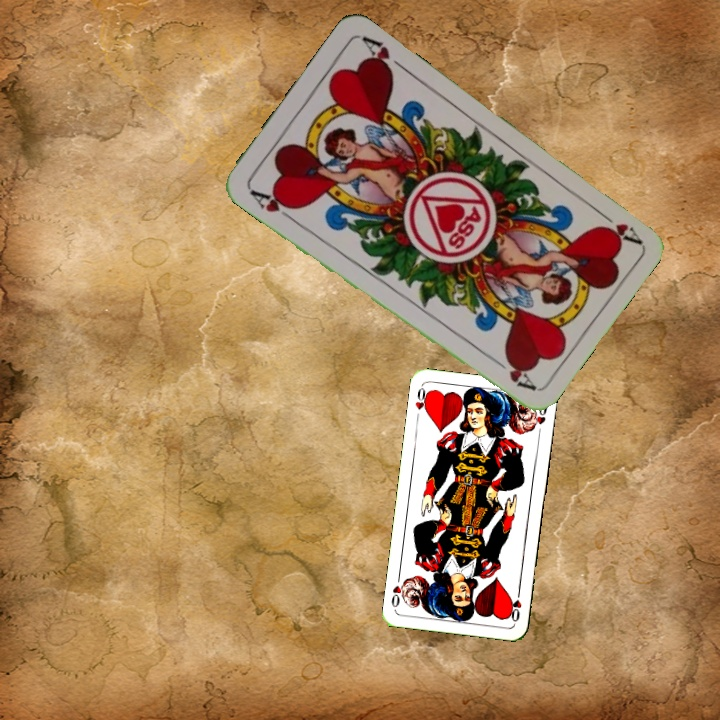HA: (591, 204, 643, 246), (245, 185, 299, 224)
HO: (411, 383, 432, 423), (506, 584, 524, 624)
